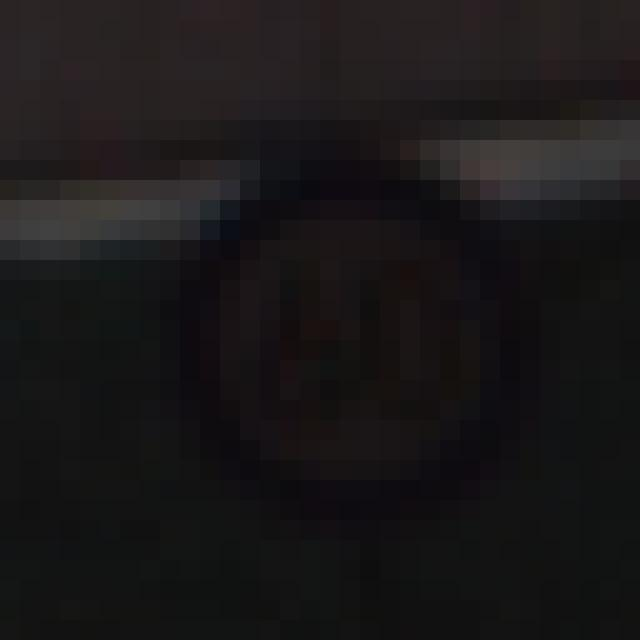SPEED-LIMIT-60: (204, 156, 523, 503)
